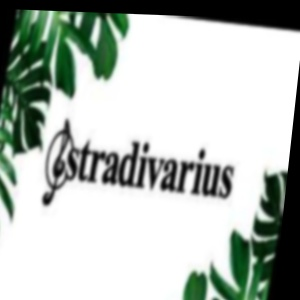stradivarius: (220, 68, 276, 171)
